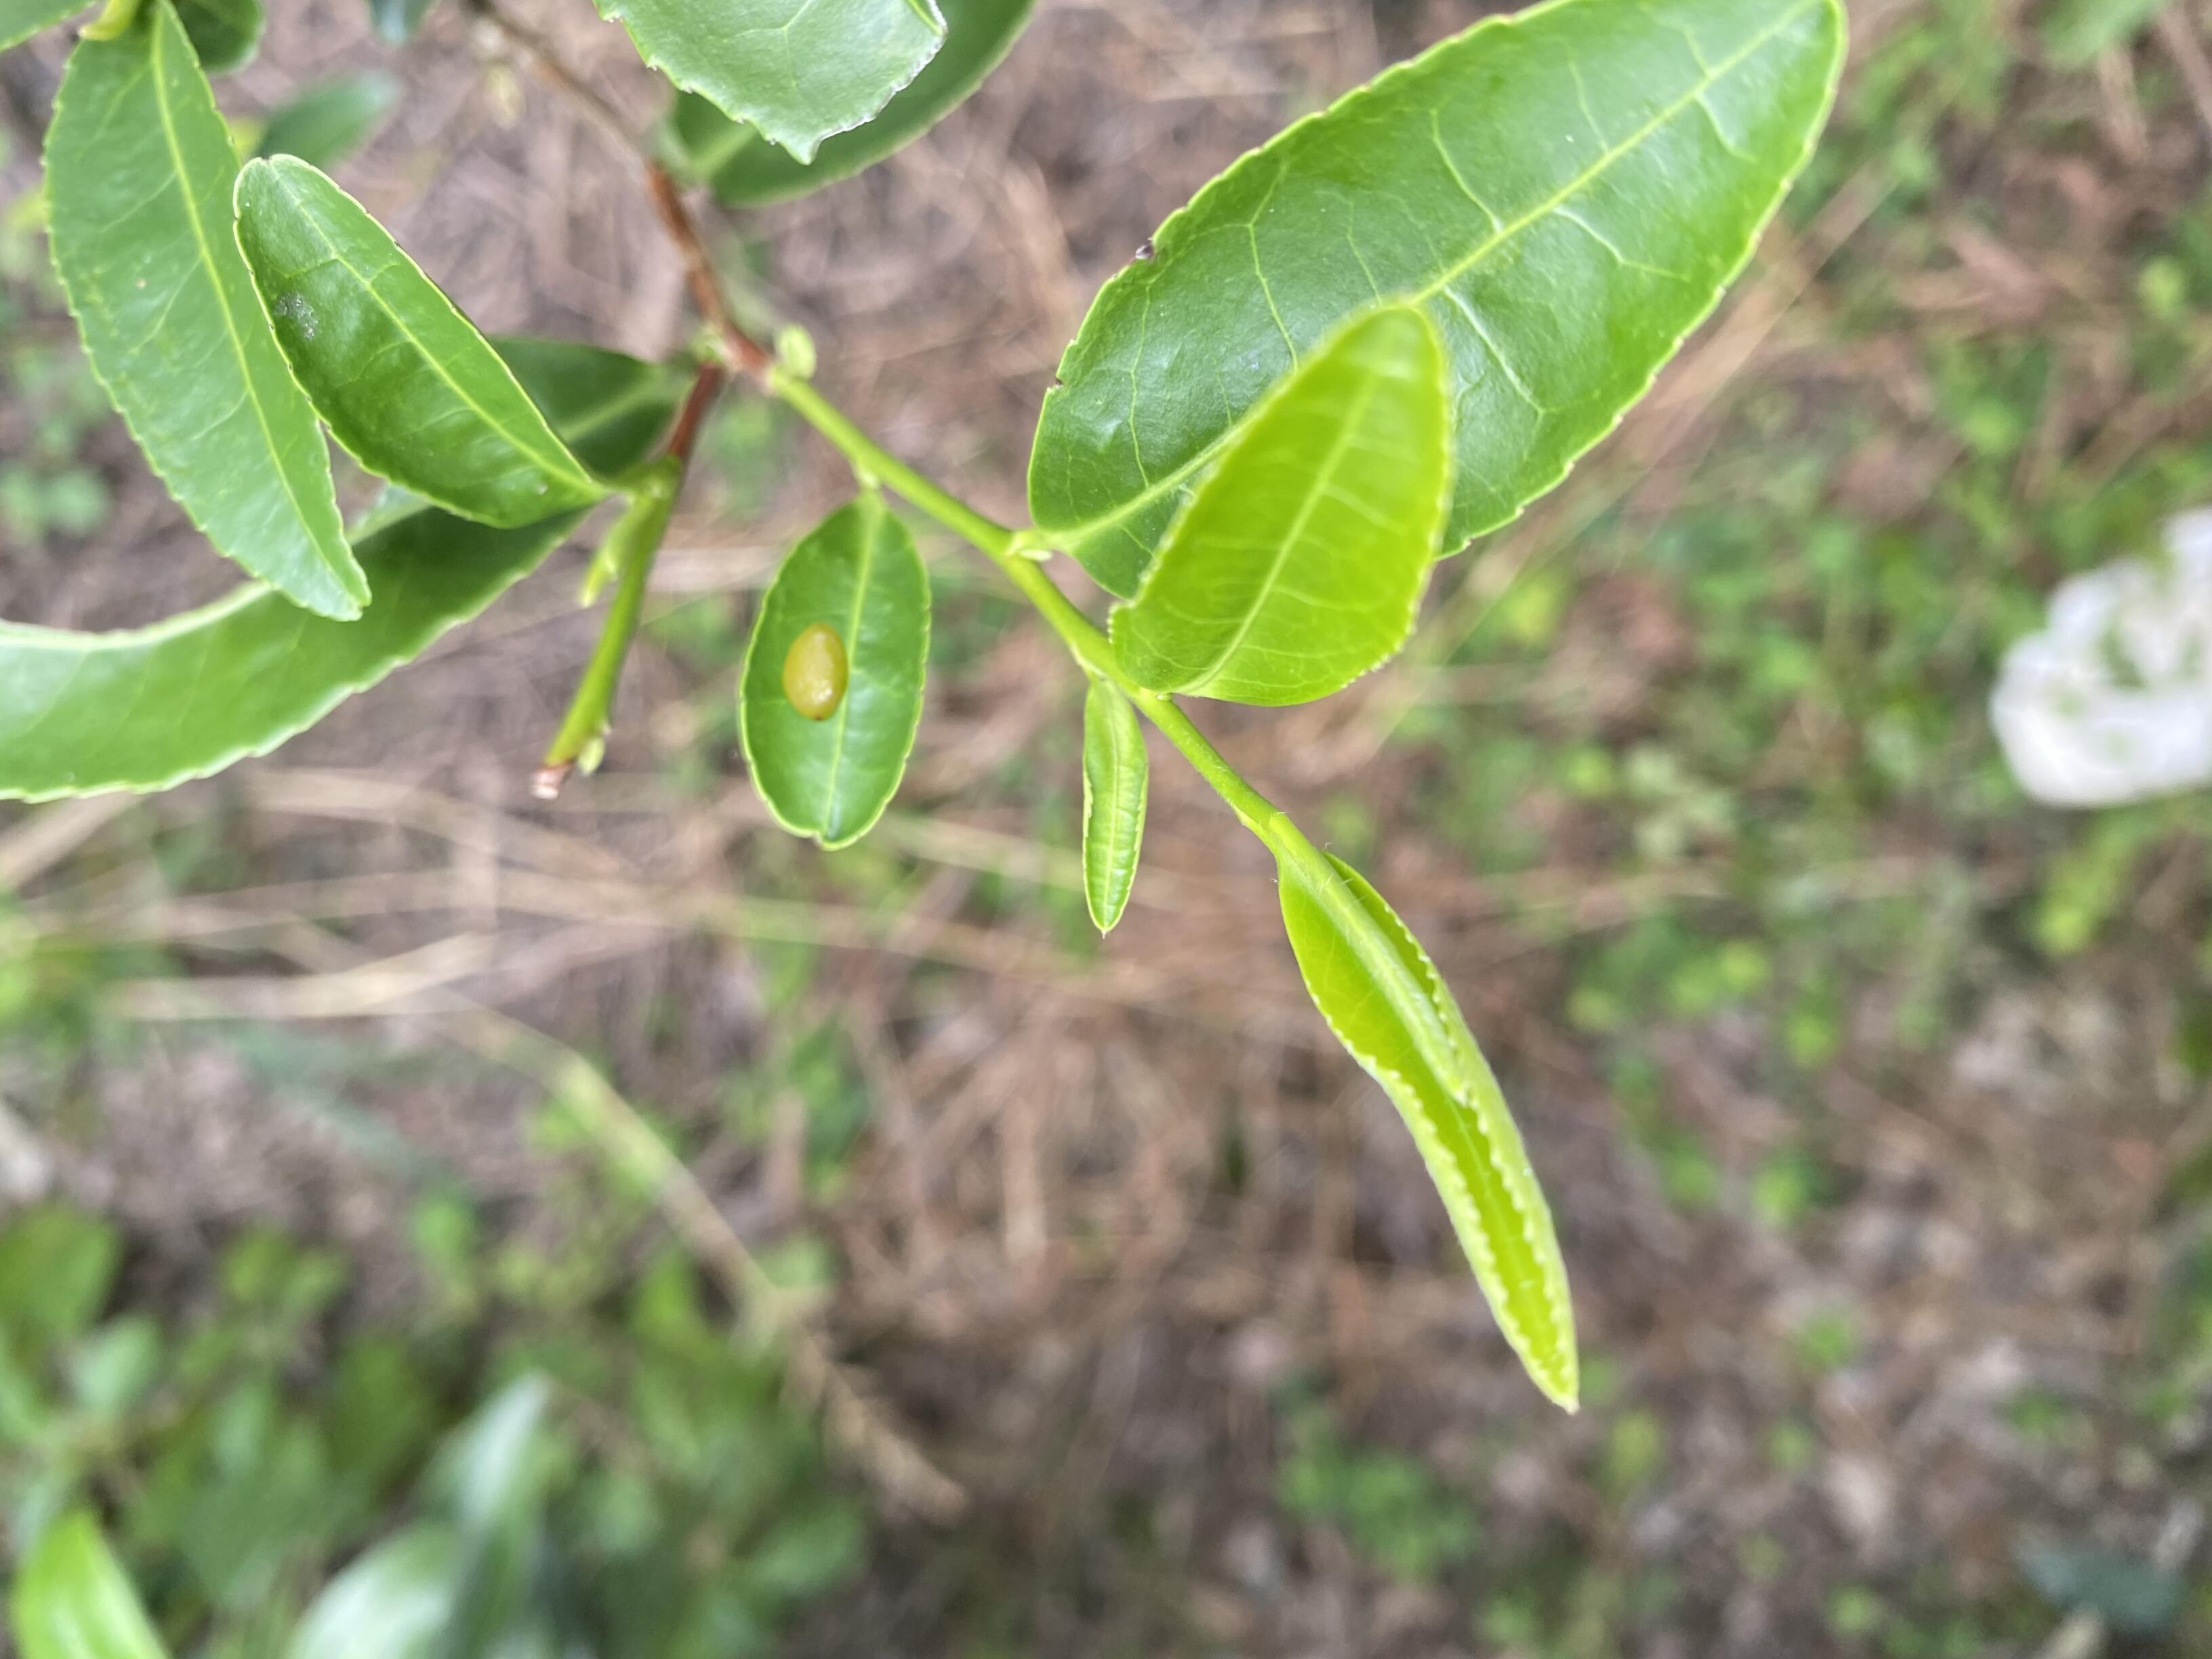chabing_low: (737, 505, 932, 852)
healthy: (37, 2, 371, 624), (1277, 849, 1585, 1413), (232, 150, 611, 532), (1108, 307, 1458, 713)
tanju_low: (1029, 0, 1851, 620)
